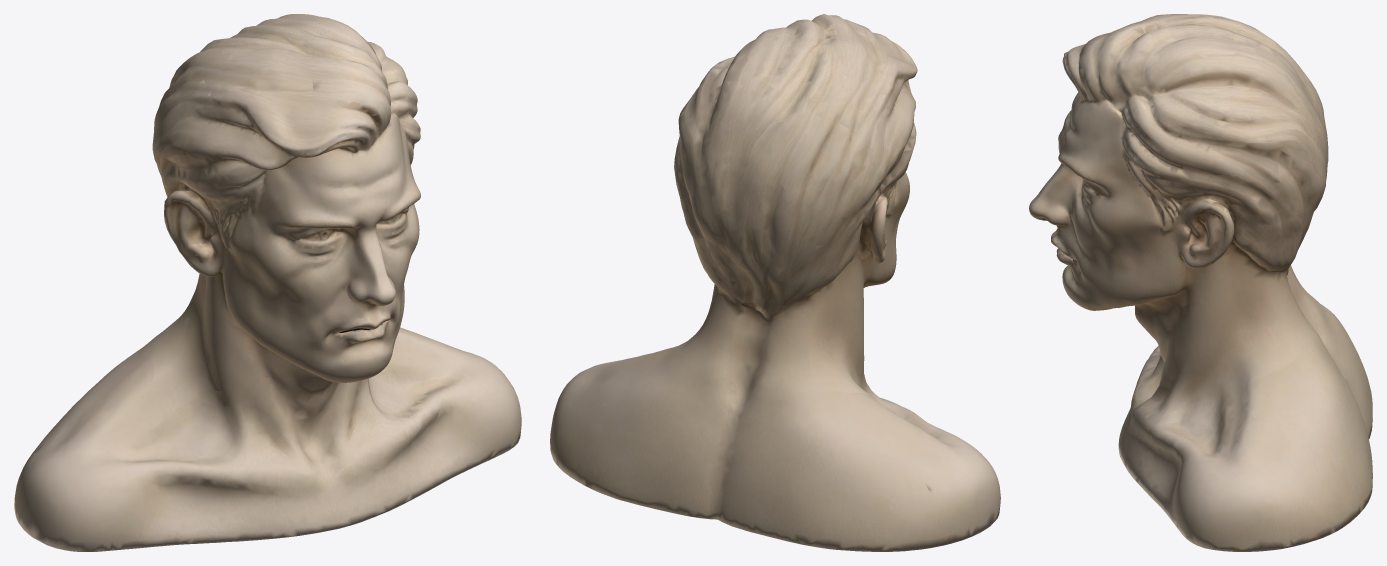
The model's file is male.glb.
The picture shows the model from 3 angles, left to right: view 1: azimuth 30°, elevation 25°; view 2: azimuth 150°, elevation 25°; view 3: azimuth 270°, elevation 25°; orthographic projection. The views are drawn at different scales.
Parts seen in each view (by area): view 1: Head; view 2: Head; view 3: Head.
Boxes of the visible parts, left/top/right/bottom form: Head: left=14, top=14, right=521, bottom=551; Head: left=550, top=14, right=1000, bottom=551; Head: left=1029, top=14, right=1372, bottom=551.
Bounding box in the file's own units: 1.62 × 1.52 × 1.12.
1 material, 1 textured.
